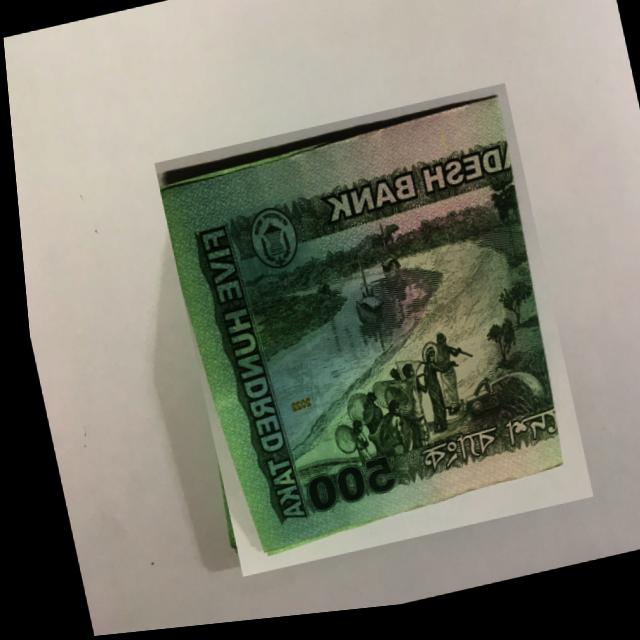Taka: (147, 90, 586, 585)
